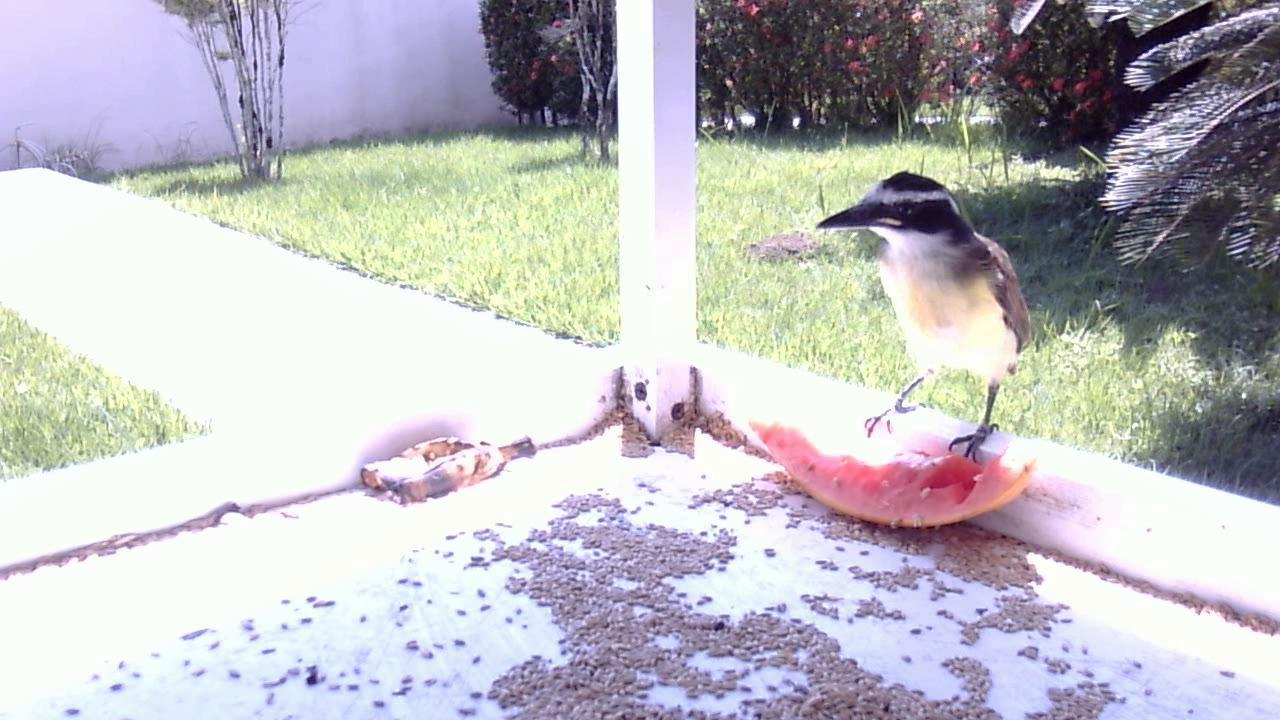bem_te_vi: (817, 164, 1038, 470)
